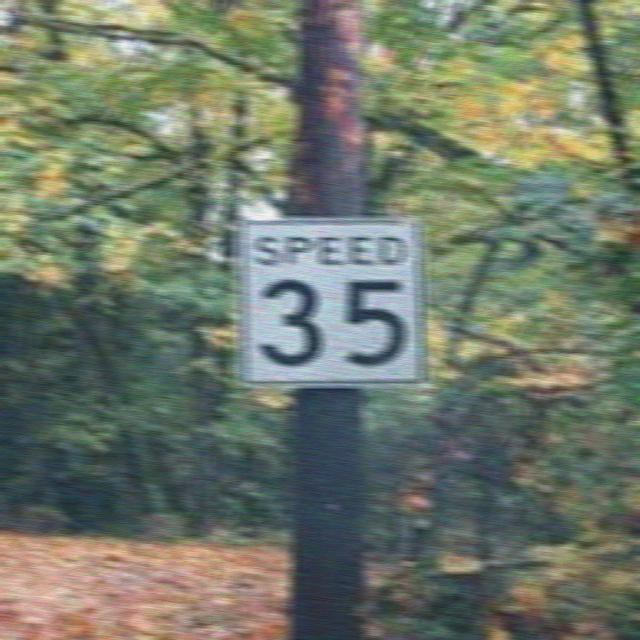speedLimit35: (234, 209, 426, 409)
